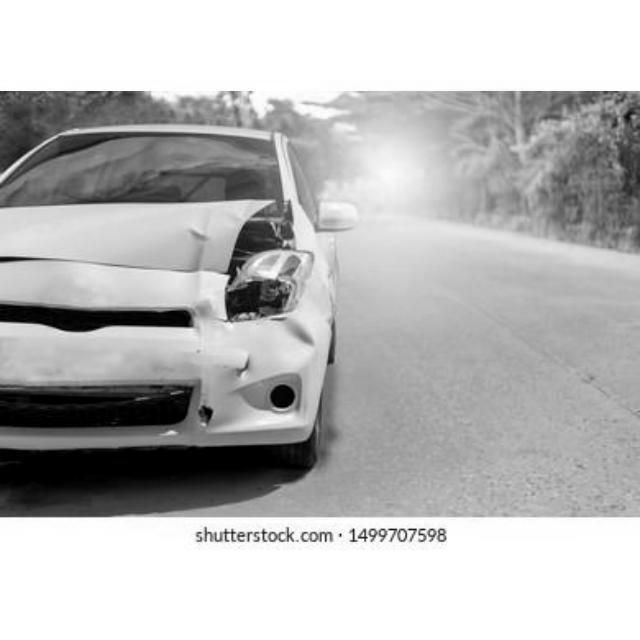Headlight-damage: (227, 209, 304, 333)
bonnet-dent: (0, 190, 264, 298)
front-bumper-dent: (0, 314, 320, 451)
